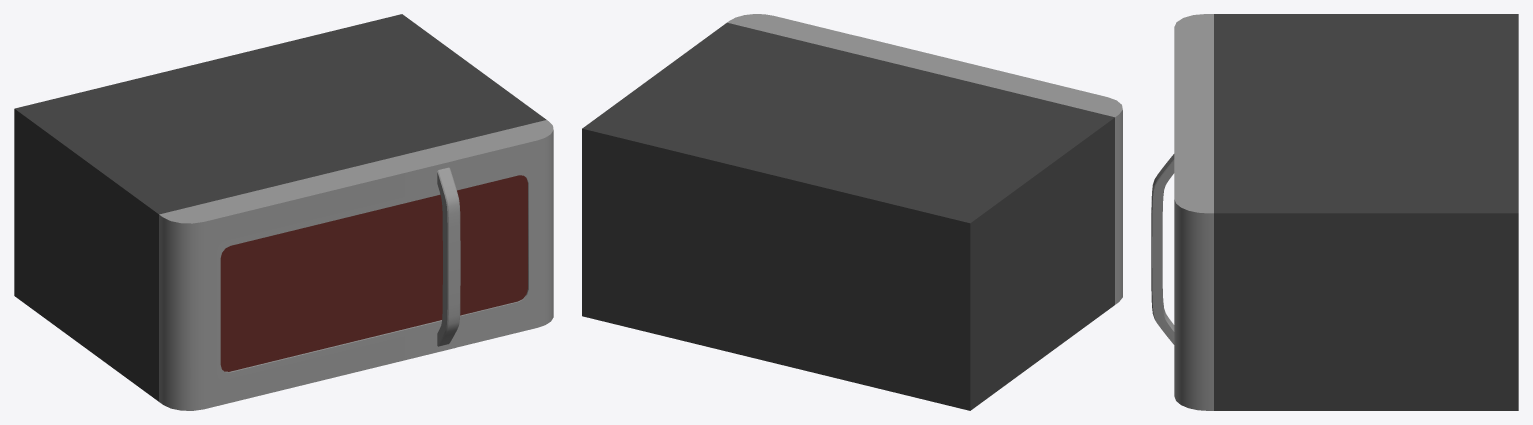
The model's file is microwave.fbx.
3 views of the same model, side by side, from view 1: azimuth 30°, elevation 25°; view 2: azimuth 150°, elevation 25°; view 3: azimuth 270°, elevation 25° (orthographic). The views are drawn at different scales.
Parts seen in each view (by area): view 1: Untitled.002; view 2: Untitled.002; view 3: Untitled.002.
Part boxes in pixels (x1,y1,x2,y2): Untitled.002: (14,14,553,410); Untitled.002: (582,14,1122,410); Untitled.002: (1151,14,1518,410).
Size of the model in its own units: 623 by 288 by 485.
